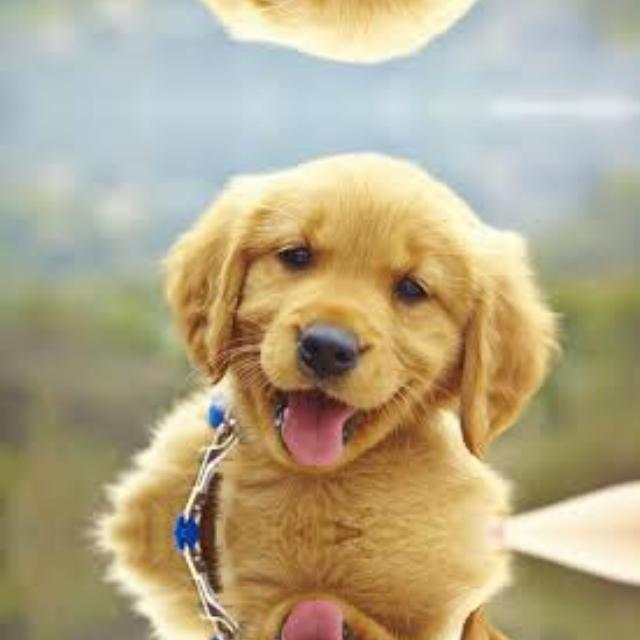dog: (135, 132, 581, 472), (135, 0, 581, 82), (135, 593, 581, 640)
